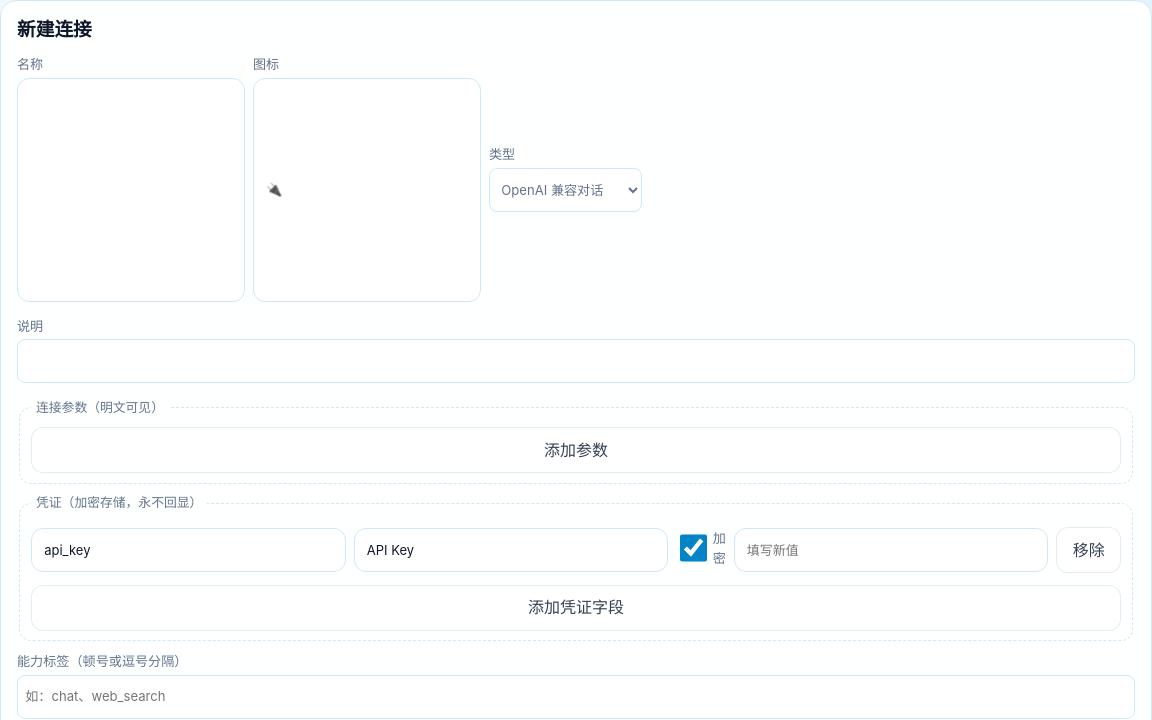
it: ConnectionForm 市场远程源（I-12） › 类型下拉含市场远程源，选中后提示填 url
The width and height of the screenshot is (1152, 720).
Select "市场远程源" in the dropdown with test id "hub-form-kind": x=566, y=190 [489, 168, 642, 212]
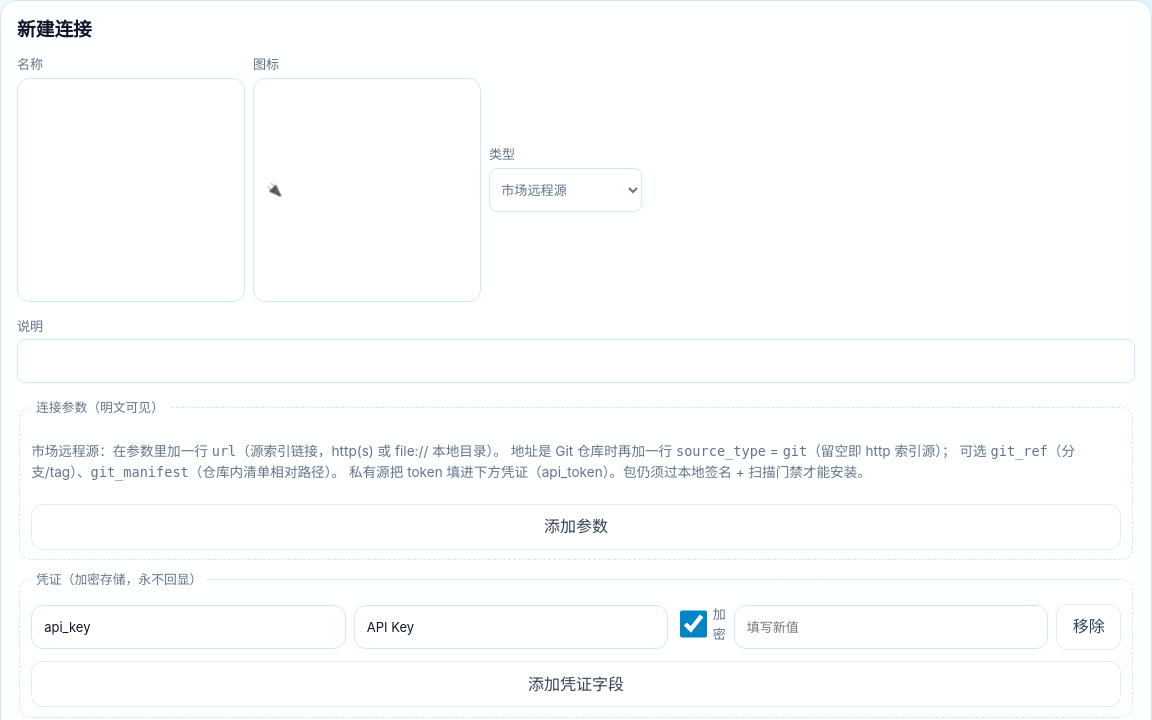
Check: the element with test id "hub-market-source-hint" shows "url", box [212, 443, 236, 459]
